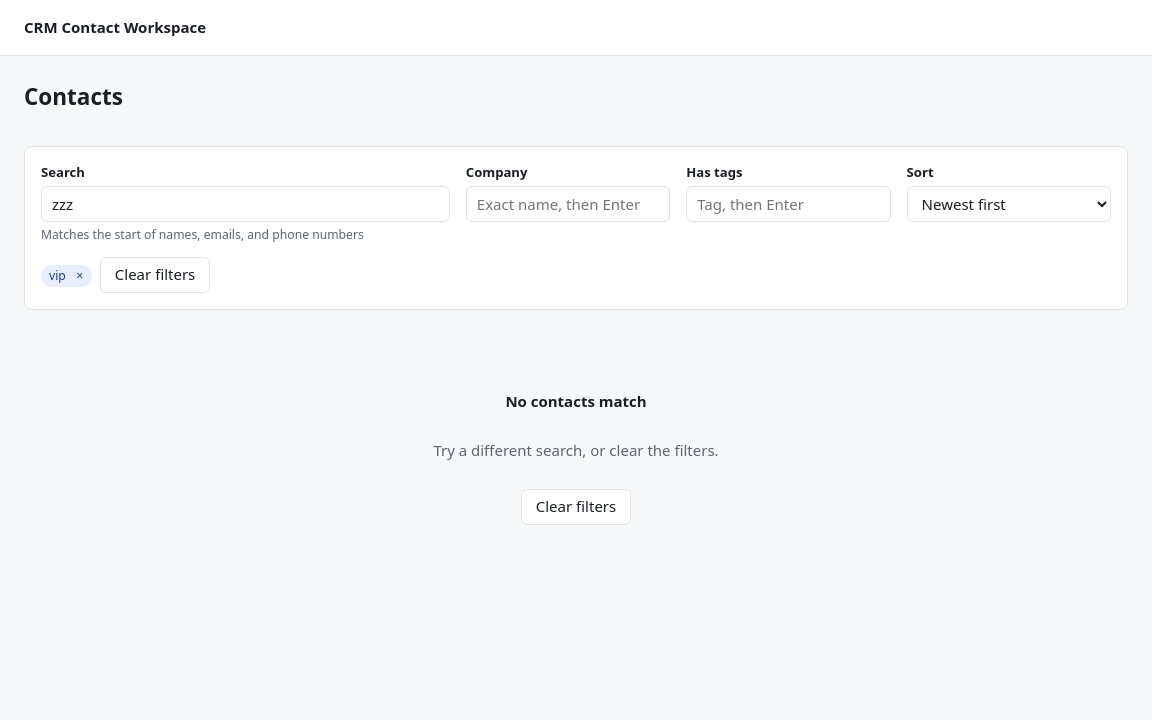
Test: ContactsPage — loading, results, empty, error › clears filters from the empty state
Click the button "Clear filters" below "No contacts match". click: (576, 507)
box: [521,489,631,525]
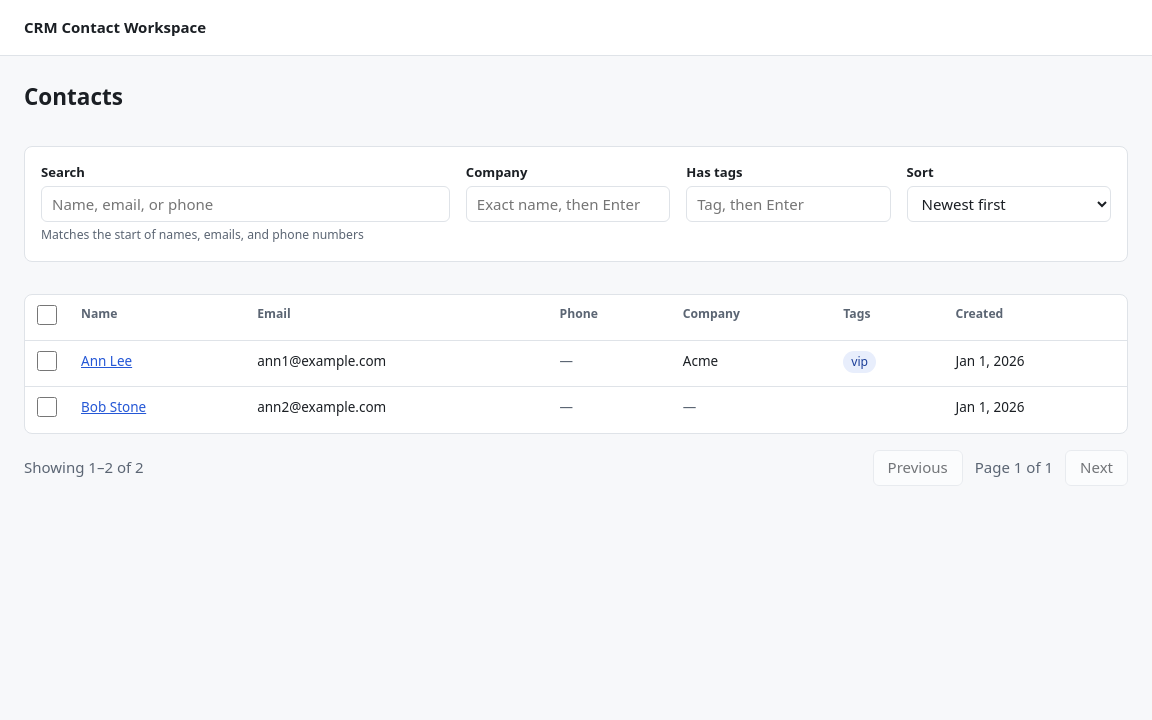
Now the search field is empty, box [41,186,450,222]
